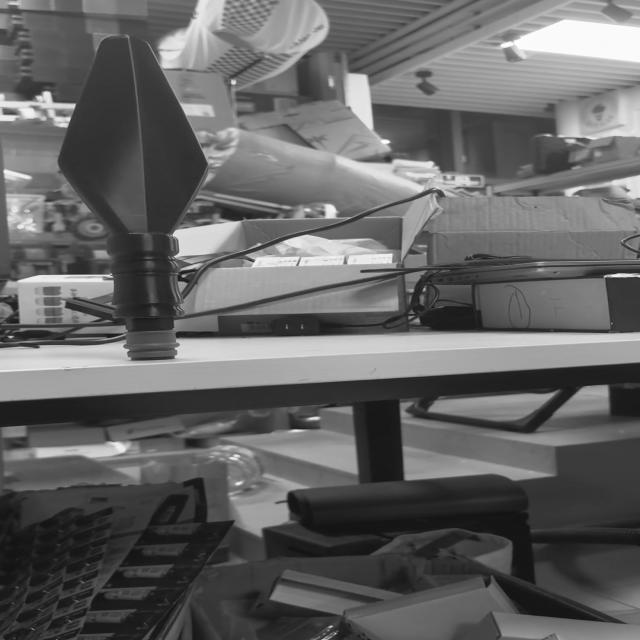base: (128, 330, 182, 360)
